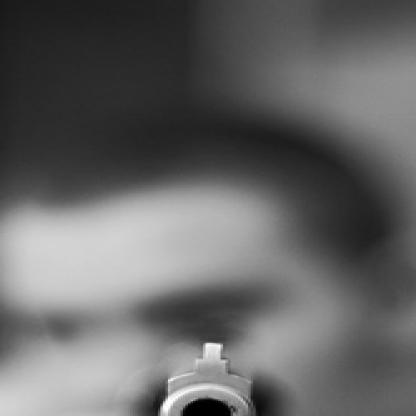gun: (106, 324, 324, 414)
